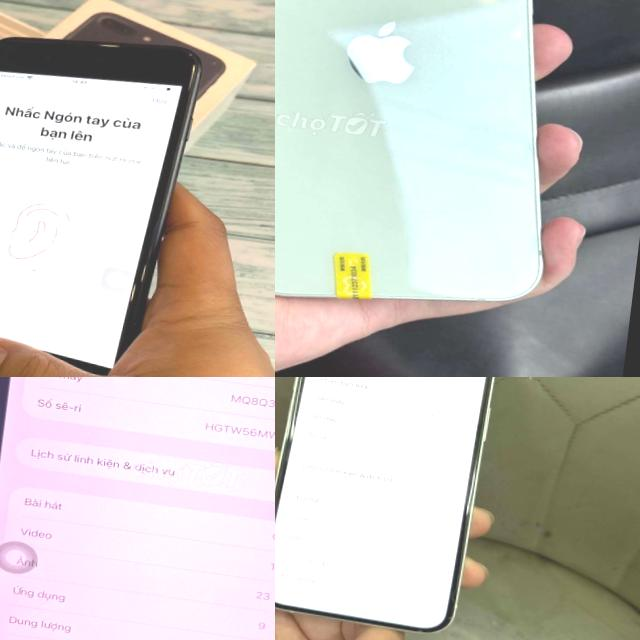gen_12_13: (275, 0, 620, 342), (275, 377, 525, 640)
gen_14: (0, 377, 275, 640)
gen_7_8: (0, 16, 210, 377)
